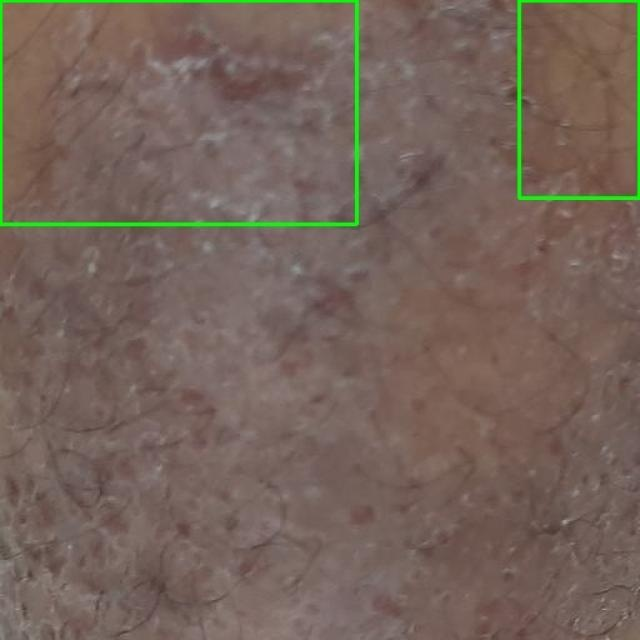Eczema: (0, 0, 356, 224), (519, 0, 639, 198)
